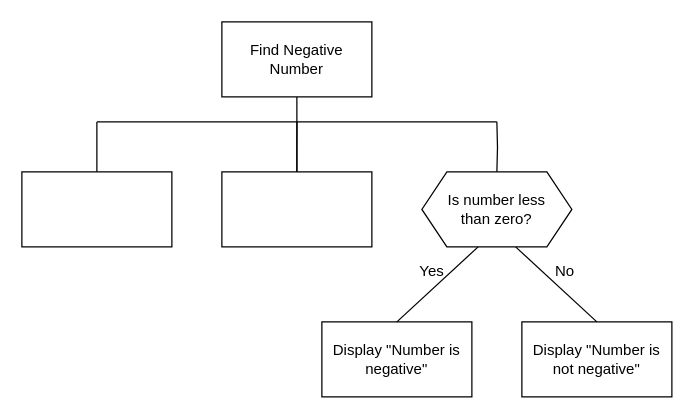
The diagram is 694 pixels wide and 419 high, and some of its shapes have lost their labels. Each missing label, with the centre of its shape:
Ask the user for a number: the point at 296,209
Initialise variables: the point at 96,209
